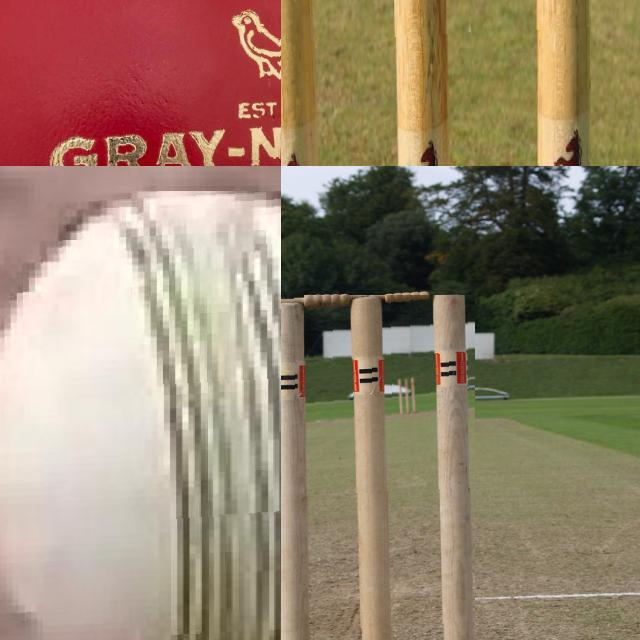Cricket ball: (0, 190, 281, 640), (0, 0, 281, 166)
Stumps: (281, 295, 475, 640), (281, 0, 591, 166), (392, 384, 417, 424)
